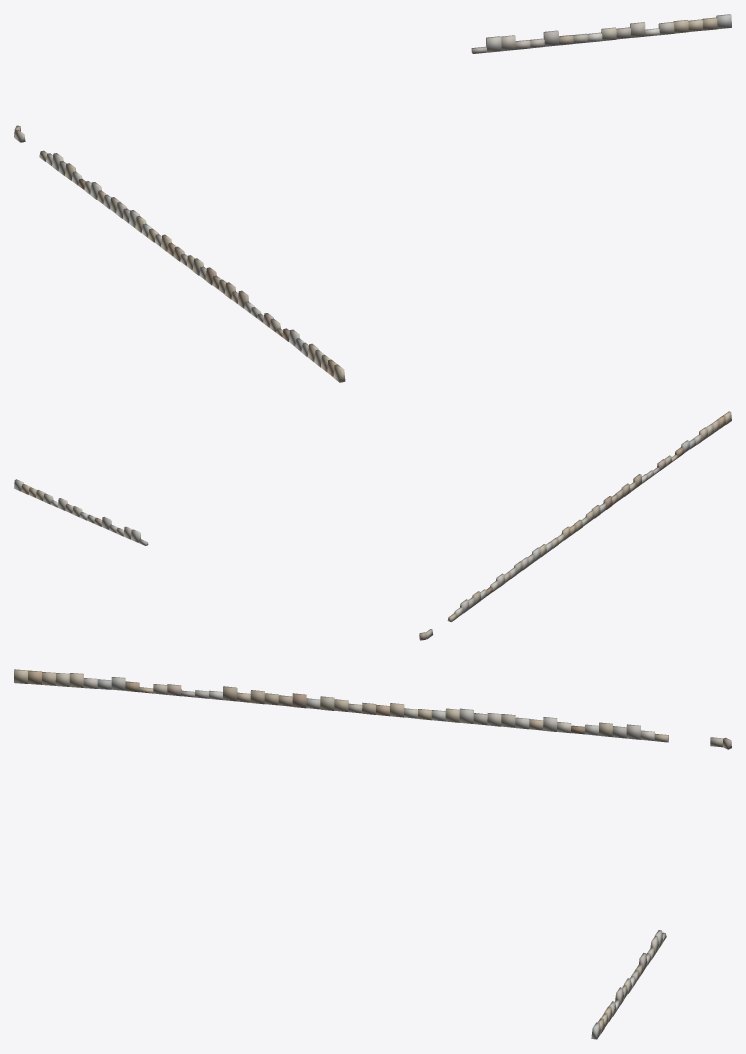
The model's file is farm_-32_-26_collision.glb.
The picture shows the model from 3 angles, top to bottom: view 1: azimuth 30°, elevation 25°; view 2: azimuth 150°, elevation 25°; view 3: azimuth 270°, elevation 25°; orthographic projection. The views are drawn at different scales.
Visible parts, largest first — view 1: geometry_0; view 2: geometry_0; view 3: geometry_0.
Boxes of the visible parts, bbox=[...] form: geometry_0: bbox=[14, 14, 731, 382]; geometry_0: bbox=[14, 411, 731, 640]; geometry_0: bbox=[14, 669, 731, 1039].
Bounding box in the file's own units: 86.58 × 6.65 × 81.63.
